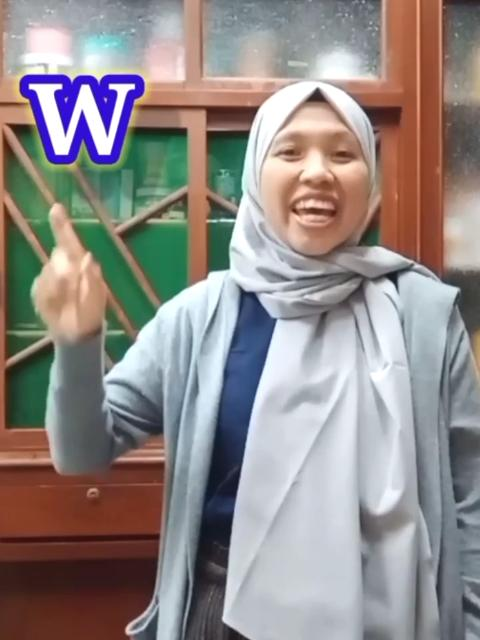X: (27, 201, 125, 341)
